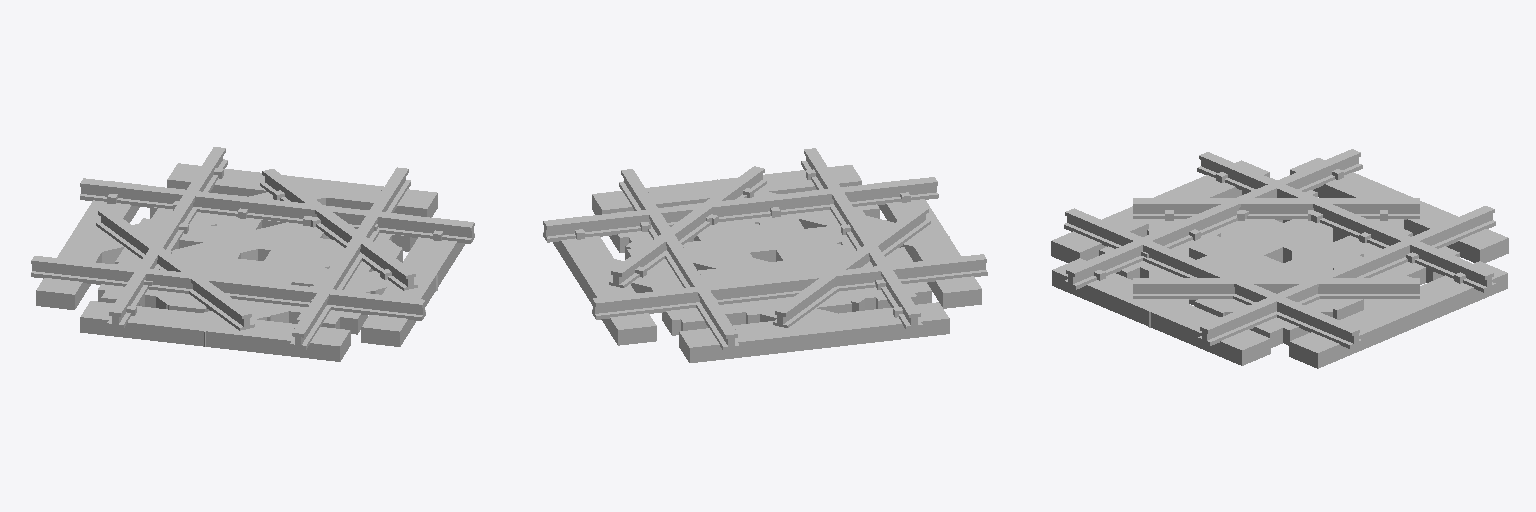
The model's file is track_double_diamond_crossing.obj.
The picture shows the model from 3 angles: view 1: azimuth 30°, elevation 25°; view 2: azimuth 150°, elevation 25°; view 3: azimuth 270°, elevation 25°; orthographic projection.
Visible parts, largest first — view 1: track_normal.001, track_normal.002, track_normal; view 2: track_normal.002, track_normal.001, track_normal; view 3: track_normal.001, track_normal.002, track_normal.
Part boxes in pixels (x1,y1,x2,y2): track_normal.001: (31, 178, 474, 346); track_normal.002: (80, 147, 437, 361); track_normal: (77, 169, 437, 346); track_normal.002: (543, 177, 987, 345); track_normal.001: (592, 148, 949, 362); track_normal: (590, 166, 949, 328); track_normal.001: (1052, 149, 1508, 365); track_normal.002: (1051, 152, 1507, 368); track_normal: (1133, 198, 1419, 327).
Size of the model in its own units: 1.62 by 0.1158 by 1.6.